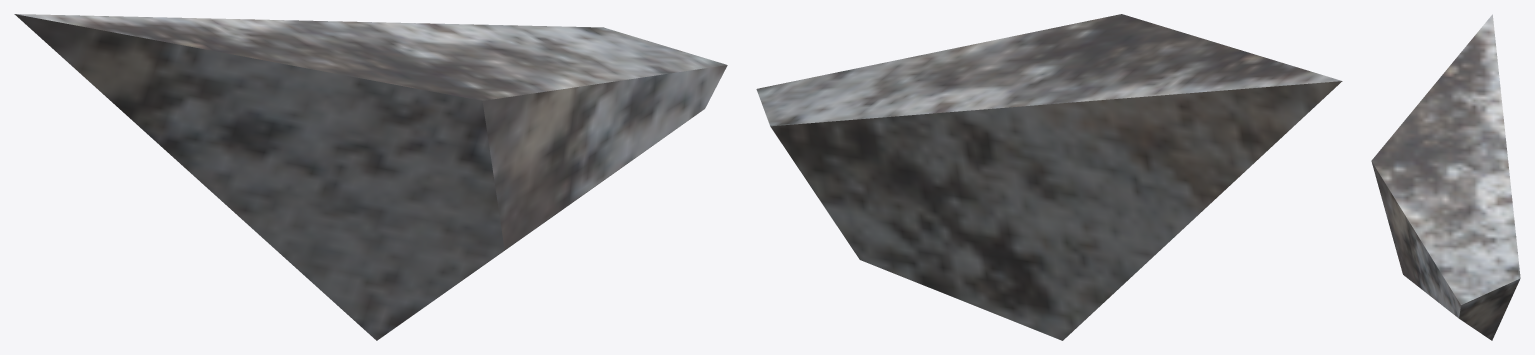
File: Asteroid_Large_001_02_002_03_003.fbx
3 views of the same model, side by side, from view 1: azimuth 30°, elevation 25°; view 2: azimuth 150°, elevation 25°; view 3: azimuth 270°, elevation 25° (orthographic). The views are drawn at different scales.
Visible parts, largest first — view 1: Asteroid_Large_001_02_002_03_003; view 2: Asteroid_Large_001_02_002_03_003; view 3: Asteroid_Large_001_02_002_03_003.
Part boxes in pixels (x1,y1,x2,y2): Asteroid_Large_001_02_002_03_003: (14, 14, 727, 340); Asteroid_Large_001_02_002_03_003: (756, 14, 1342, 340); Asteroid_Large_001_02_002_03_003: (1371, 14, 1520, 340).
Bounding box in the file's own units: 4.4 × 2.4 × 1.52.
